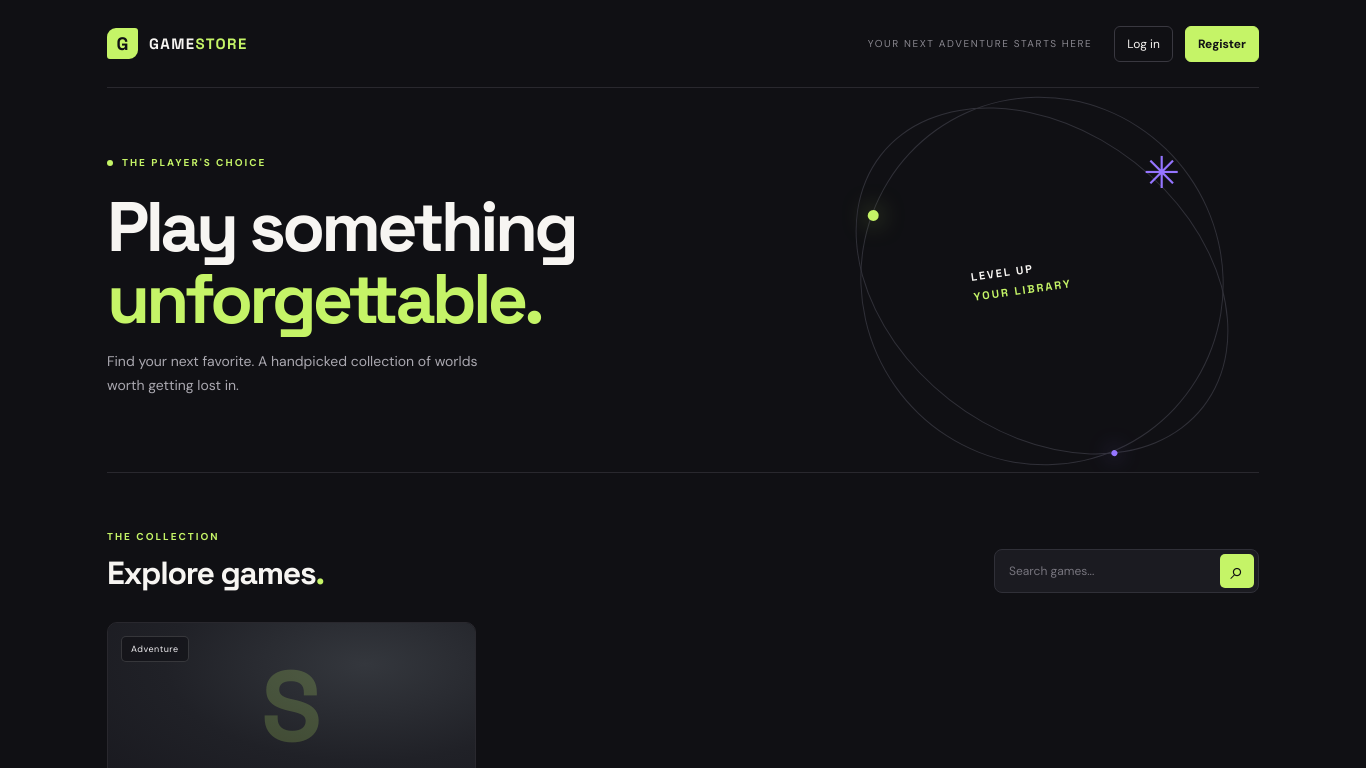
Test case: GameStore catalog › registers a member and then offers the login form
Step 1. Click the button "Register" → (1222, 44), box [1185,26,1259,62]
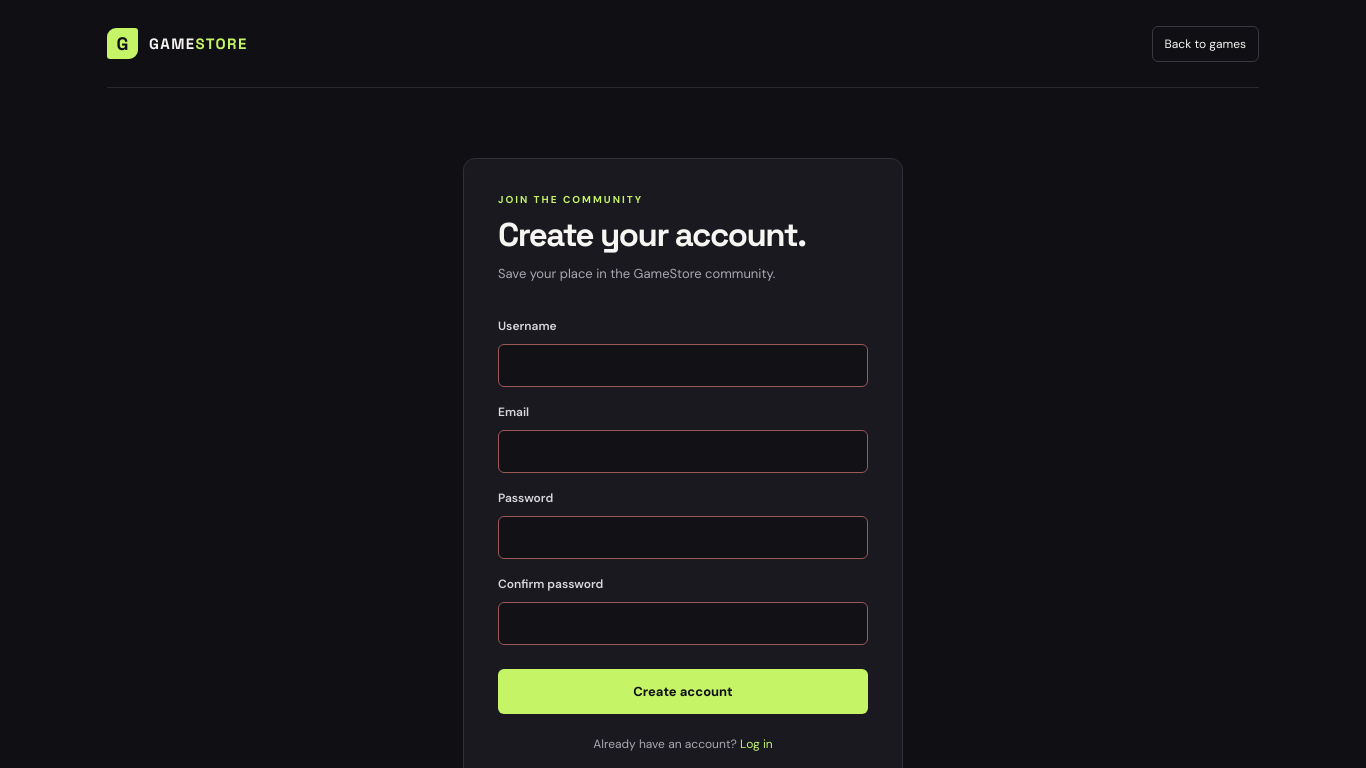
Step 2. Type "playerone" into the field labelled "Username" → (683, 365), box [498,344,868,387]
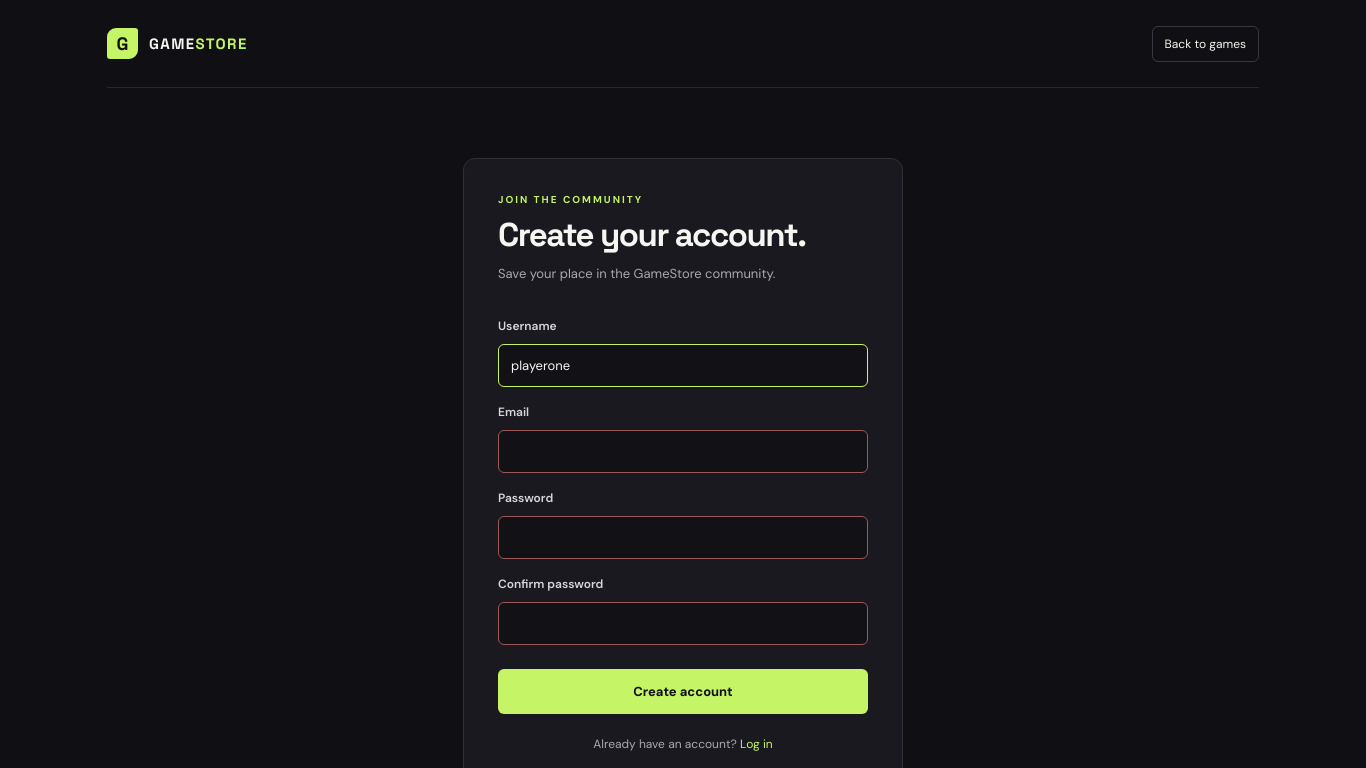
Step 3. Type "playerone@example.com" into the field labelled "Email" → (683, 451), box [498,430,868,473]
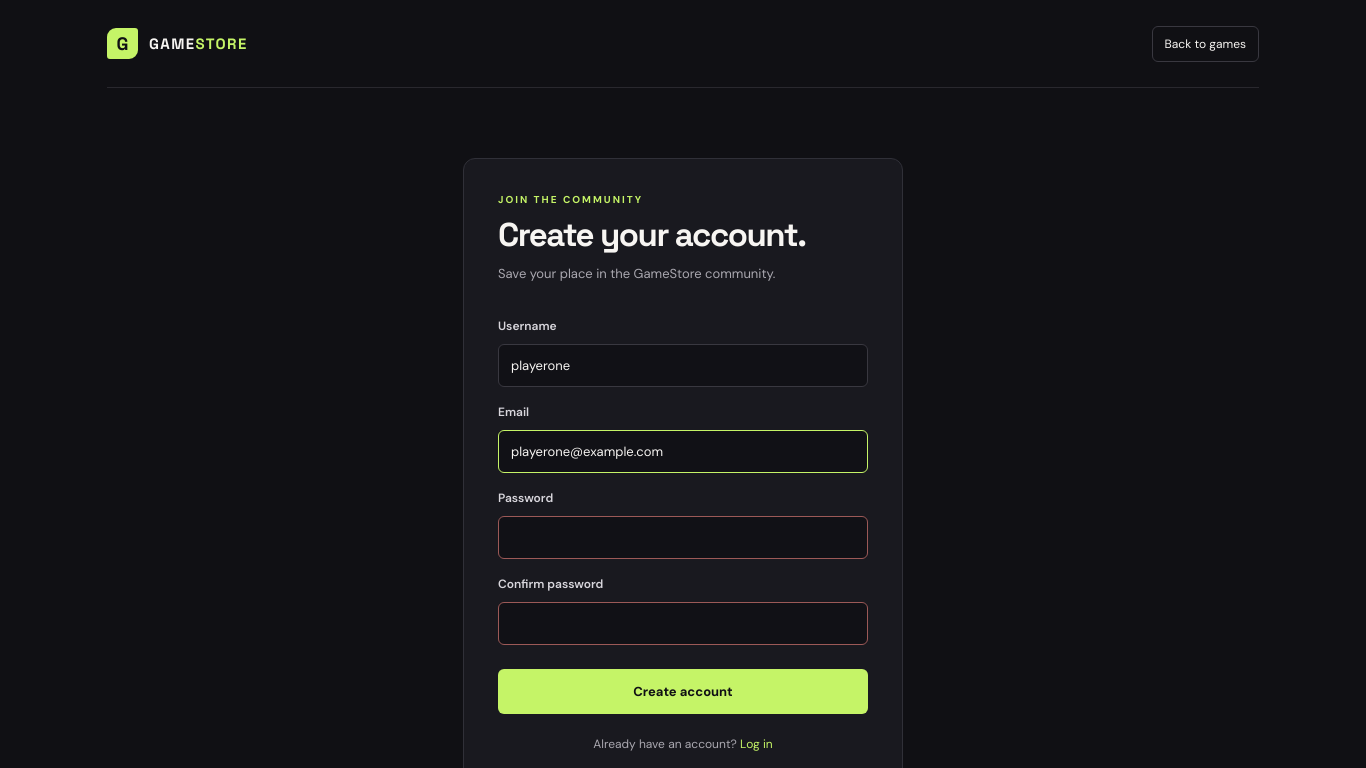
Step 4. Type "secure-password-123" into the password field labelled "Password" → (683, 537), box [498,516,868,559]
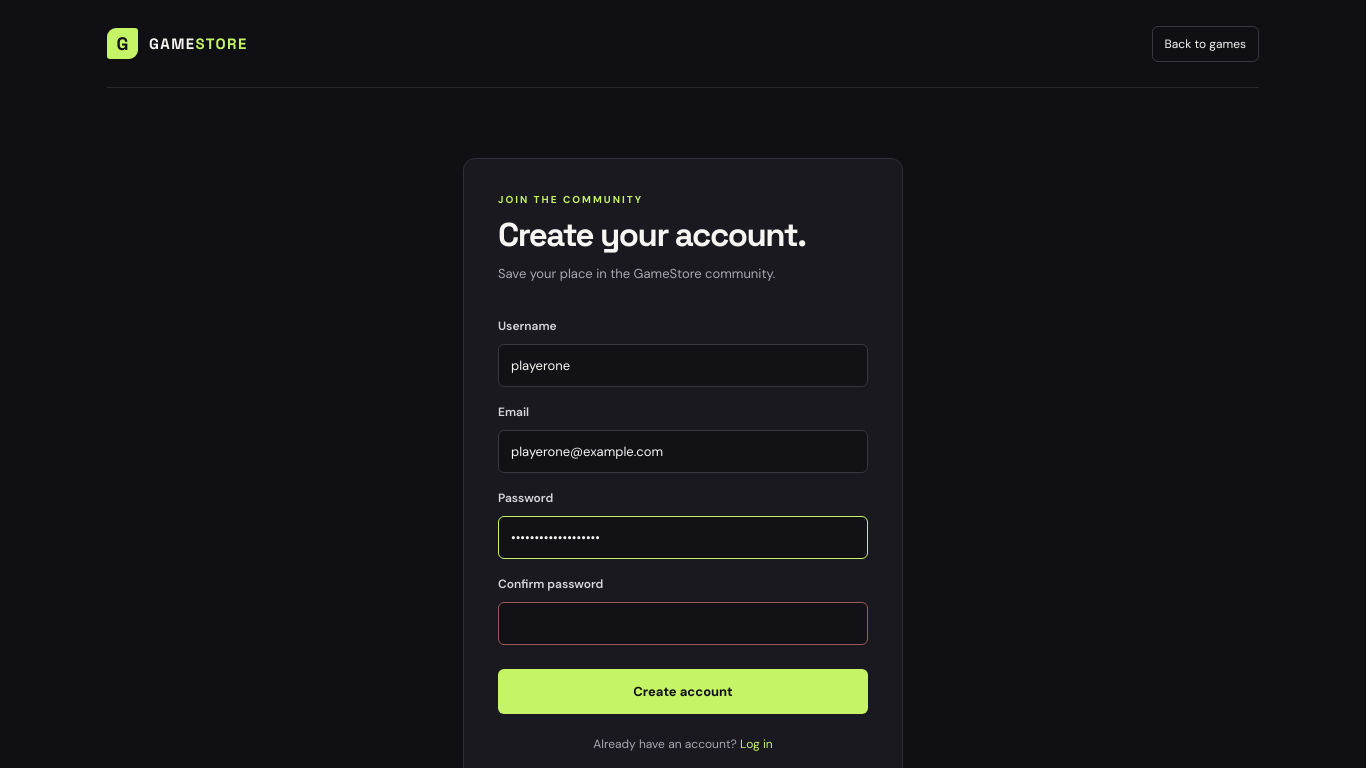
Step 5. Type "secure-password-123" into the password field labelled "Confirm password" → (683, 623), box [498,602,868,645]
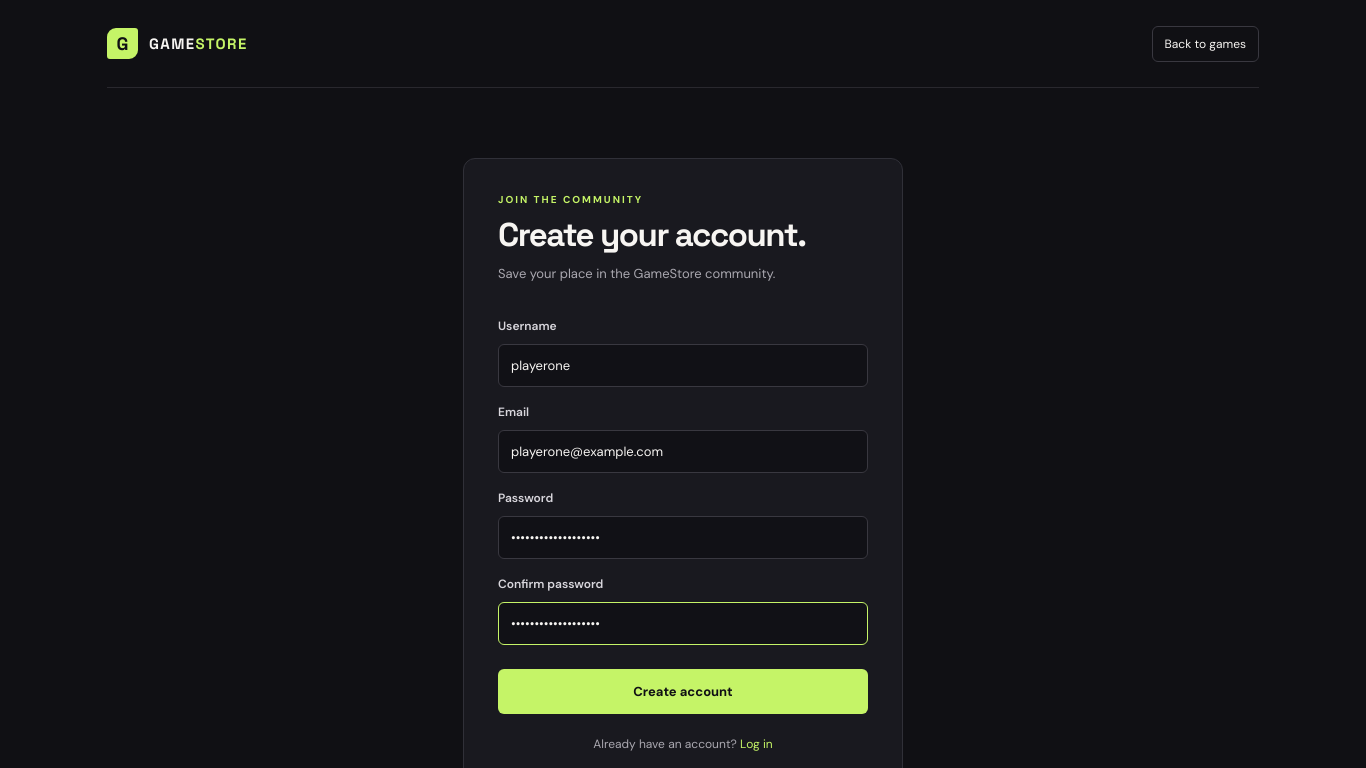
Step 6. Click the button "Create account" → (683, 691), box [498,669,868,714]
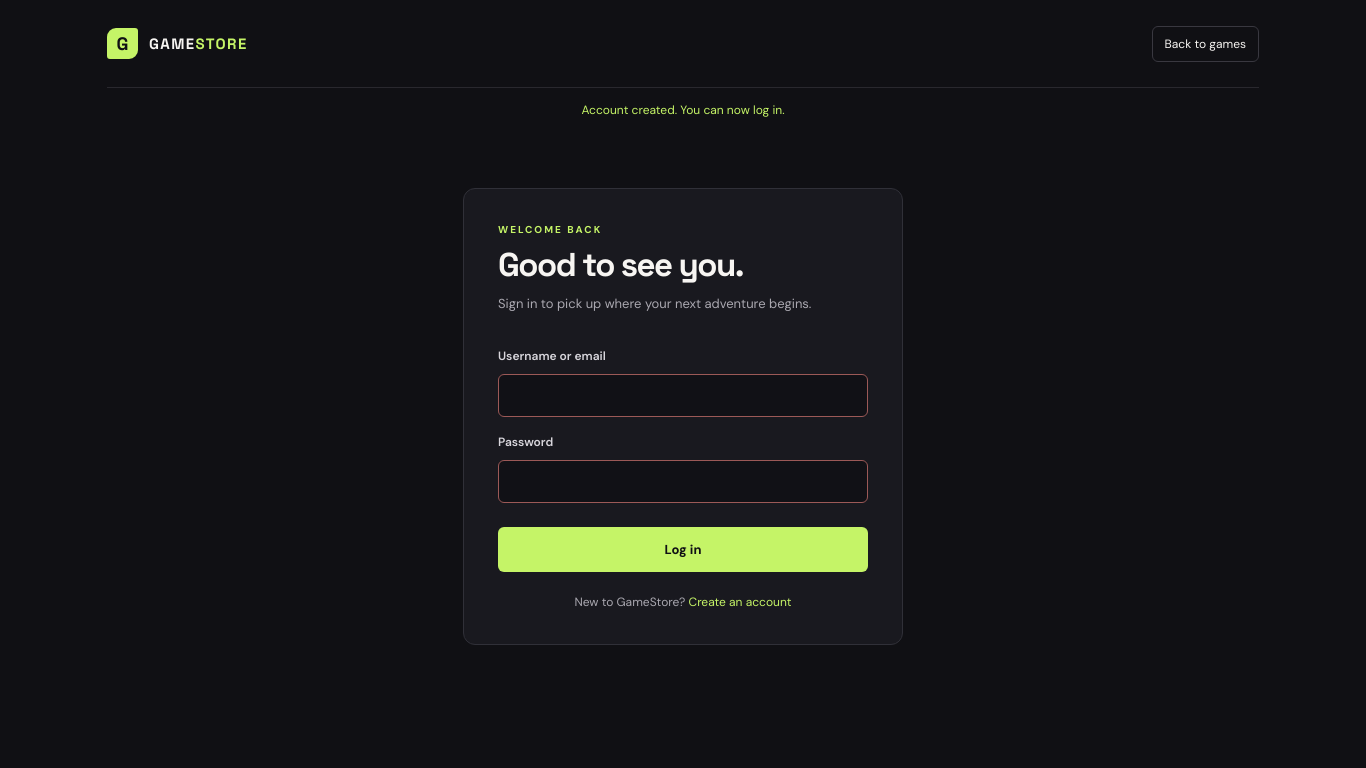
Expected: the message shows "Account created", [581,102,784,118]
Expected: the heading "Good to see you." is shown, [498,244,743,286]
